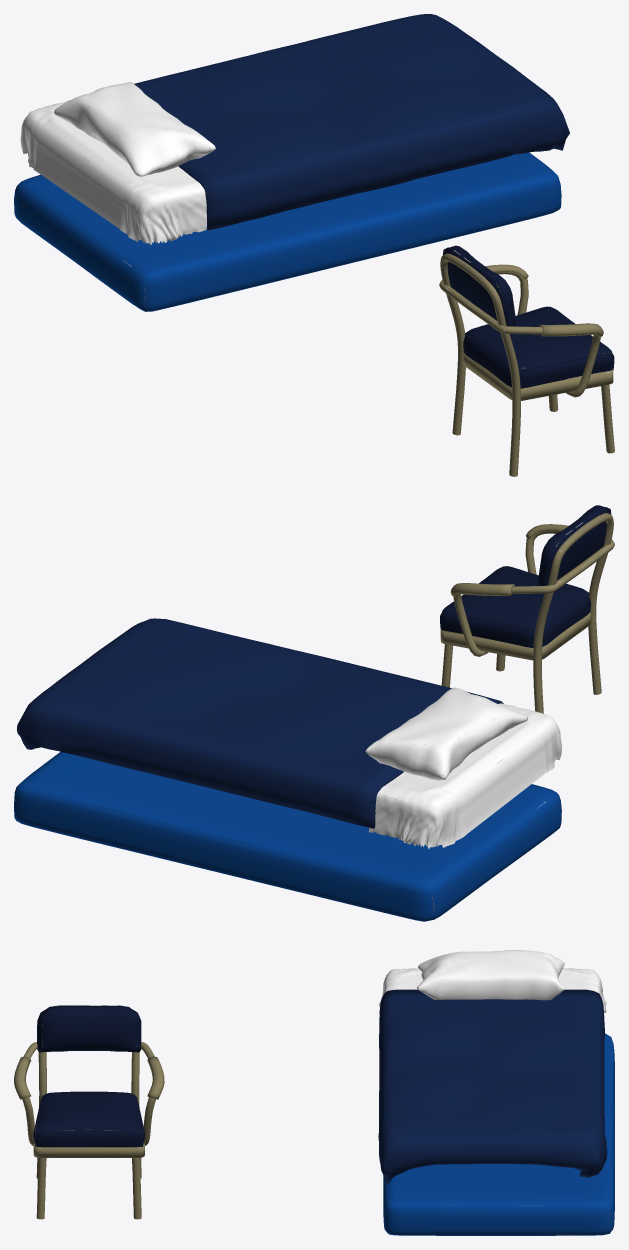
The model's file is Cabin_bed.fbx.
The picture shows the model from 3 angles, top to bottom: view 1: azimuth 30°, elevation 25°; view 2: azimuth 150°, elevation 25°; view 3: azimuth 270°, elevation 25°; orthographic projection. The views are drawn at different scales.
Parts seen in each view (by area): view 1: bed cushion.001, bed cushion.002; view 2: bed cushion.001, bed cushion.002; view 3: bed cushion.001, bed cushion.002.
Boxes of the visible parts, left/top/right/bottom form: bed cushion.001: left=14, top=14, right=569, bottom=311; bed cushion.002: left=439, top=245, right=614, bottom=476; bed cushion.001: left=14, top=618, right=561, bottom=921; bed cushion.002: left=440, top=505, right=614, bottom=713; bed cushion.001: left=378, top=950, right=614, bottom=1235; bed cushion.002: left=14, top=1005, right=164, bottom=1219.
Bounding box in the file's own units: 231 × 103 × 328.
Materials: 1 (1 with a texture image).
